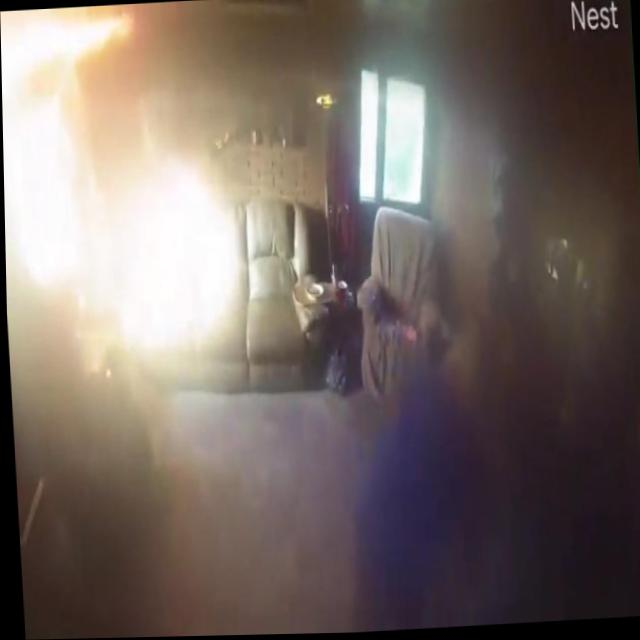fire: (0, 6, 100, 310), (0, 4, 139, 83)
